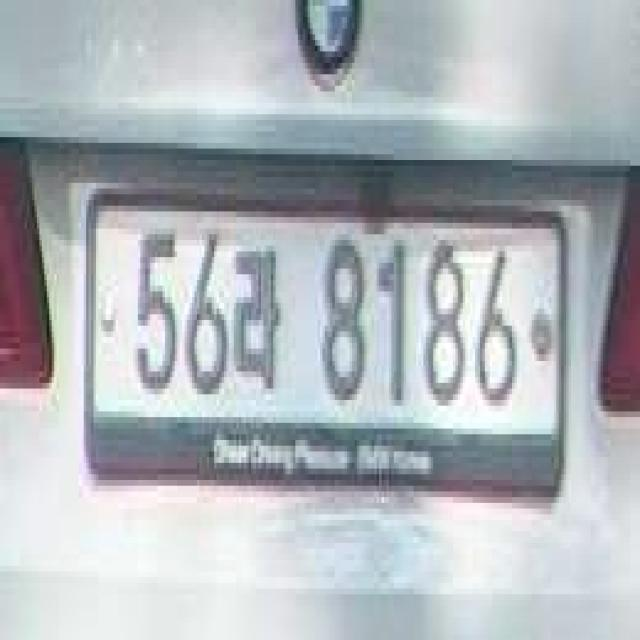illegal_plate: (85, 174, 572, 522)
